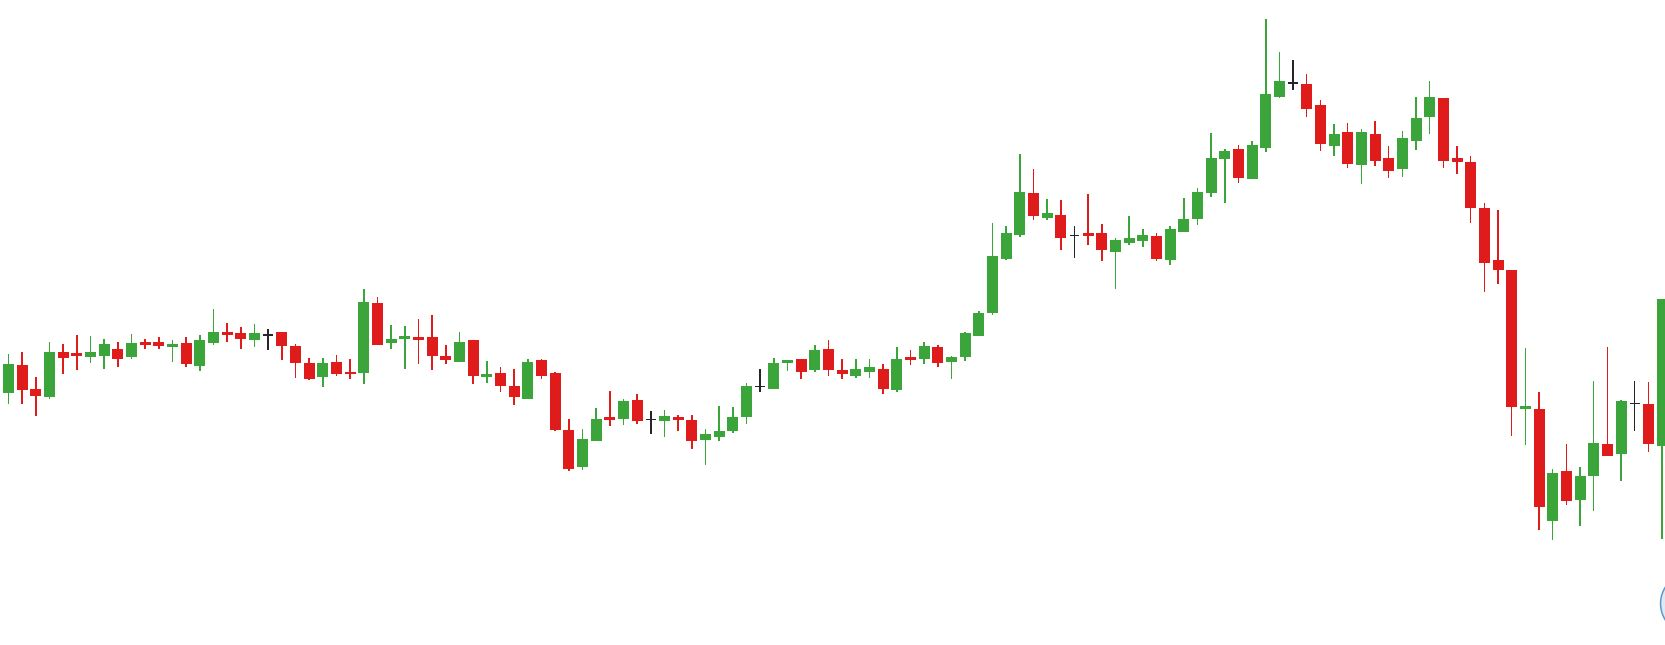sell: (1339, 78, 1451, 148)
